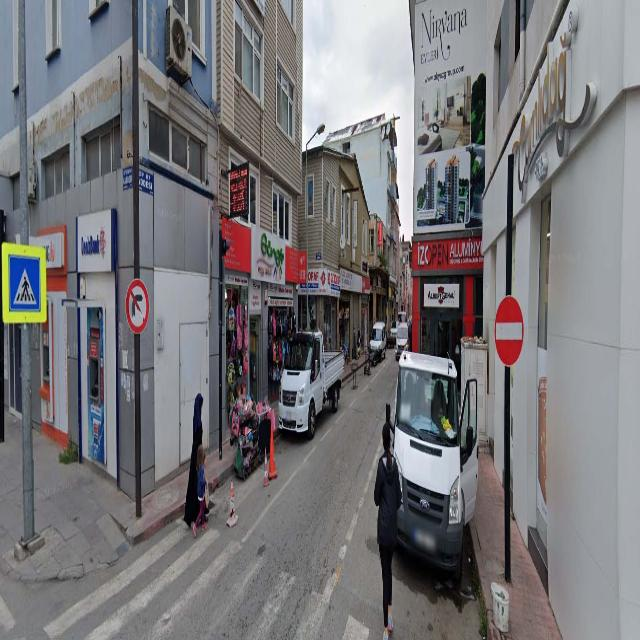girisyok: (495, 297, 524, 366)
sagadonulmez: (125, 279, 148, 333)
